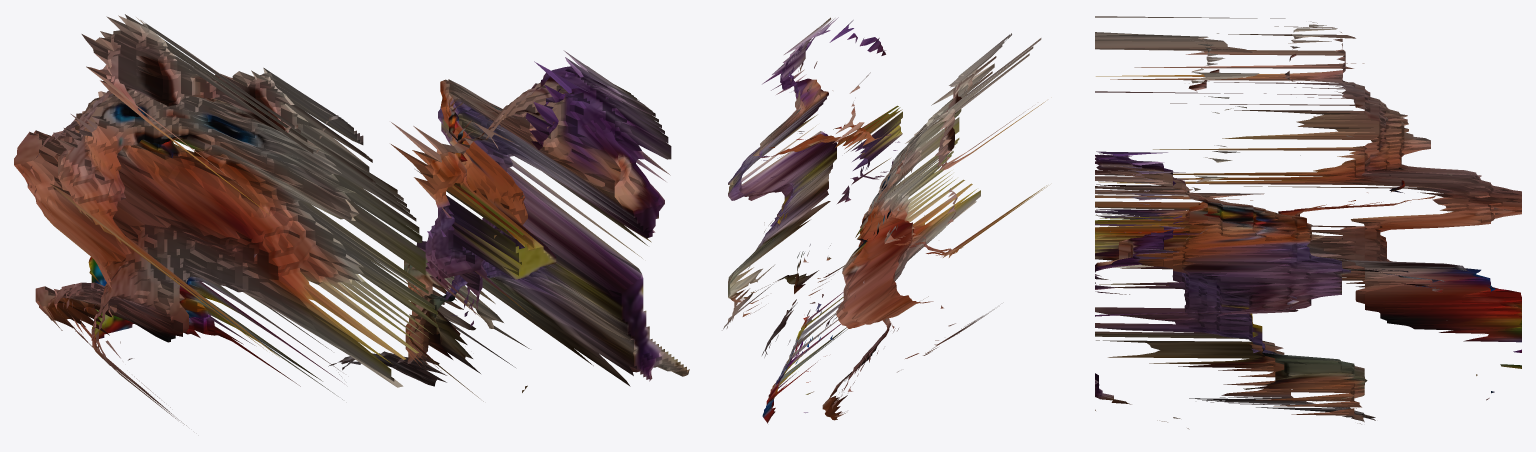
The model's file is frame_00364.glb.
3 renders of one model, left to right at view 1: azimuth 30°, elevation 25°; view 2: azimuth 150°, elevation 25°; view 3: azimuth 270°, elevation 25°, orthographic. The views are drawn at different scales.
Visible parts, largest first — view 1: geometry_0; view 2: geometry_0; view 3: geometry_0.
Part boxes in pixels (box(x1,y1,x2,y2)): geometry_0: box(14, 14, 689, 425); geometry_0: box(722, 17, 1047, 423); geometry_0: box(1095, 16, 1521, 429).
Size of the model in its own units: 0.1407 by 0.1365 by 0.16.
Materials: 1 (1 with a texture image).
